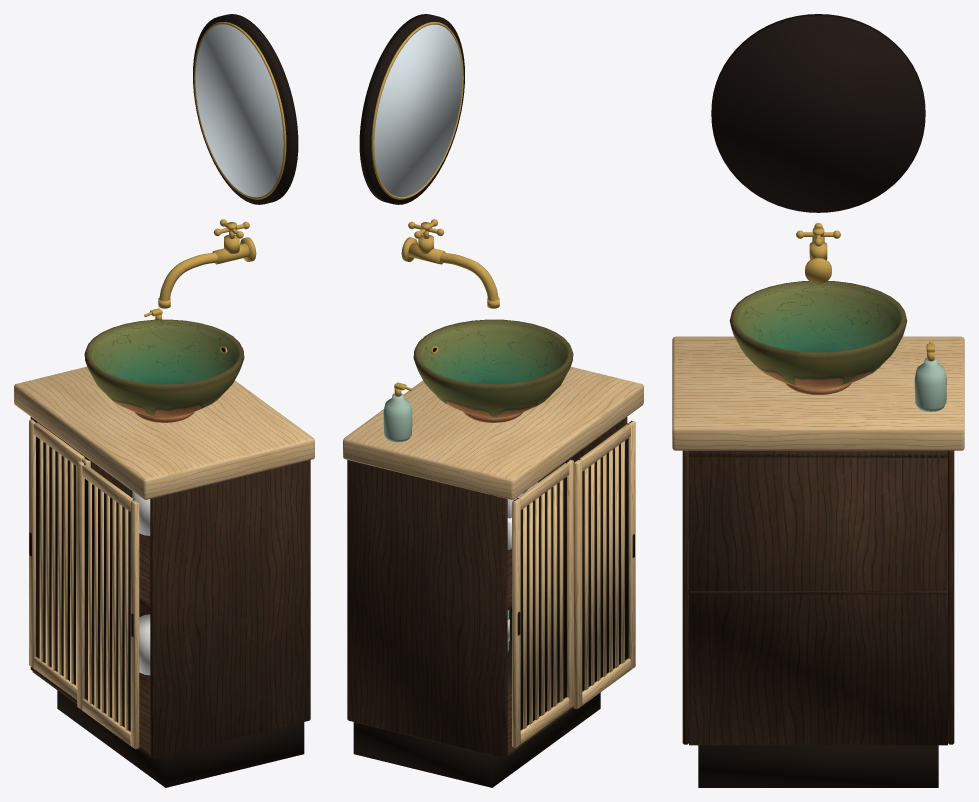
File: washstand.glb
3 renders of one model, left to right at view 1: azimuth 30°, elevation 25°; view 2: azimuth 150°, elevation 25°; view 3: azimuth 270°, elevation 25°, orthographic. The views are drawn at different scales.
Parts seen in each view (by area): view 1: WashCabSideR, WashTop, WashBowl, WashMirror, WashPlinth, WashDoorBack1, WashDoorBack0, WashMirrorFrame, WashStile11, WashStile1-1, WashStile0-1, WashMirrorRing (+22 smaller); view 2: WashCabSideL, WashTop, WashBowl, WashMirror, WashPlinth, WashDoorBack0, WashDoorBack1, WashMirrorFrame, WashStile1-1, WashStile0-1, WashStile11, WashStile01 (+23 smaller); view 3: WashCabBack, WashMirrorFrame, WashTop, WashBowl, WashPlinth, WashCabSideL, WashCabSideR, WashSoapBottle, WashCabRoof, WashCabShelf, WashTapRose.
Boxes of the visible parts, left/top/right/bottom form: WashCabSideR: left=150, top=460, right=310, bottom=758; WashTop: left=14, top=366, right=314, bottom=499; WashBowl: left=84, top=319, right=244, bottom=422; WashMirror: left=195, top=24, right=283, bottom=197; WashPlinth: left=57, top=690, right=304, bottom=787; WashDoorBack1: left=82, top=461, right=134, bottom=731; WashDoorBack0: left=32, top=419, right=89, bottom=685; WashMirrorFrame: left=193, top=14, right=298, bottom=204; WashStile11: left=130, top=500, right=139, bottom=749; WashStile1-1: left=77, top=461, right=84, bottom=709; WashStile0-1: left=29, top=419, right=35, bottom=668; WashMirrorRing: left=194, top=22, right=286, bottom=199; WashCabSideL: left=347, top=460, right=507, bottom=758; WashTop: left=343, top=366, right=643, bottom=499; WashBowl: left=413, top=319, right=573, bottom=422; WashMirror: left=374, top=24, right=462, bottom=197; WashPlinth: left=353, top=692, right=600, bottom=787; WashDoorBack0: left=513, top=460, right=569, bottom=729; WashDoorBack1: left=579, top=421, right=632, bottom=691; WashMirrorFrame: left=359, top=14, right=464, bottom=204; WashStile1-1: left=573, top=459, right=582, bottom=708; WashStile0-1: left=512, top=498, right=520, bottom=747; WashStile11: left=628, top=421, right=635, bottom=669; WashStile01: left=567, top=459, right=573, bottom=708; WashCabBack: left=689, top=450, right=947, bottom=745; WashMirrorFrame: left=711, top=14, right=925, bottom=212; WashTop: left=672, top=336, right=964, bottom=450; WashBowl: left=729, top=281, right=907, bottom=394; WashPlinth: left=698, top=745, right=938, bottom=787; WashCabSideL: left=948, top=450, right=954, bottom=744; WashCabSideR: left=682, top=450, right=688, bottom=744; WashSoapBottle: left=914, top=358, right=946, bottom=411; WashCabRoof: left=689, top=452, right=947, bottom=457; WashCabShelf: left=690, top=591, right=946, bottom=594; WashTapRose: left=805, top=257, right=831, bottom=284.
Size of the model in its own units: 0.423 by 1.62 by 0.56.
Materials: 13 (3 with a texture image).
